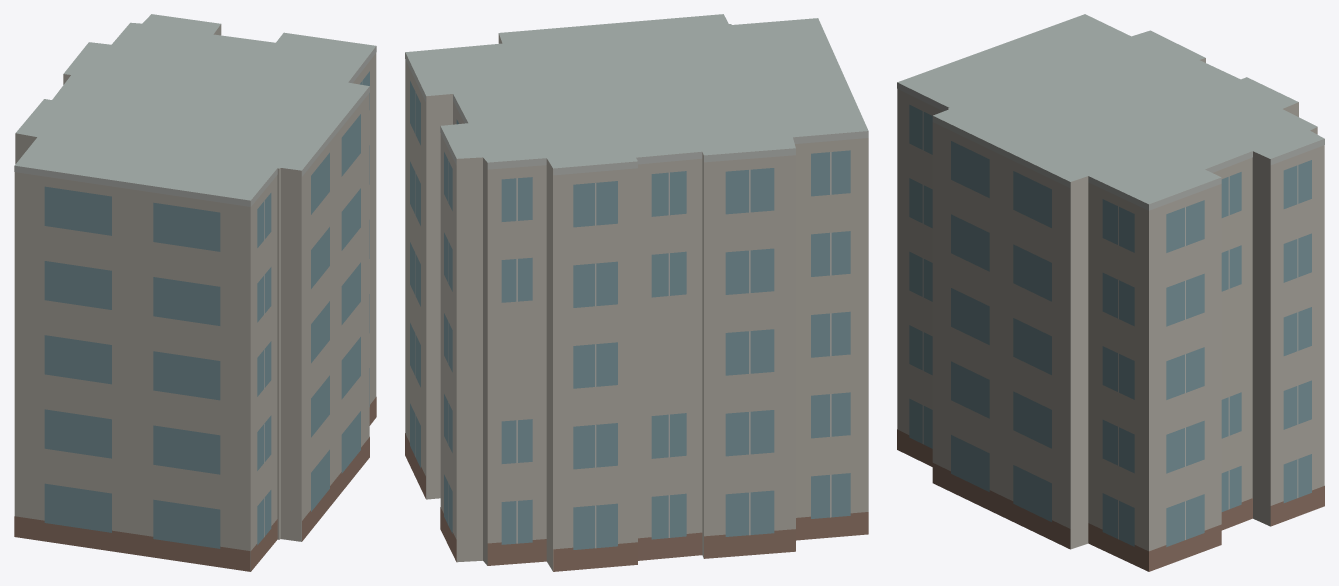
File: survey-upis-32626692.glb
3 renders of one model, left to right at view 1: azimuth 30°, elevation 25°; view 2: azimuth 150°, elevation 25°; view 3: azimuth 270°, elevation 25°, orthographic. The views are drawn at different scales.
Parts seen in each view (by area): view 1: survey-upis-32626692.tmp; view 2: survey-upis-32626692.tmp; view 3: survey-upis-32626692.tmp.
Boxes of the visible parts, bbox=[...] form: survey-upis-32626692.tmp: bbox=[14, 14, 376, 571]; survey-upis-32626692.tmp: bbox=[405, 14, 868, 571]; survey-upis-32626692.tmp: bbox=[897, 14, 1324, 571].
Bounding box in the file's own units: 15.68 × 14.1 × 14.88.
